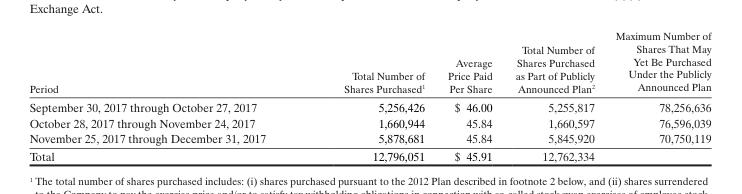table: (28, 28, 710, 163)
table column: (28, 28, 304, 163), (304, 28, 435, 163), (604, 28, 710, 163), (503, 28, 604, 163), (435, 28, 503, 163)
table column header: (28, 28, 710, 96)
table row: (28, 28, 710, 96), (28, 96, 710, 114), (28, 130, 710, 147), (28, 114, 710, 130), (28, 147, 710, 163)
